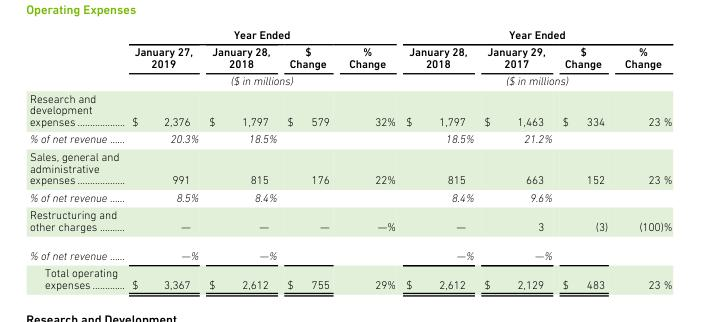table: (28, 29, 671, 290)
table column: (28, 29, 124, 290), (124, 29, 203, 290), (203, 29, 281, 290), (400, 29, 478, 290), (478, 29, 556, 290), (338, 29, 400, 290), (556, 29, 615, 290), (281, 29, 338, 290), (615, 29, 671, 290)
table column header: (28, 29, 671, 90)
table row: (28, 90, 671, 130), (28, 148, 671, 188), (28, 206, 671, 241), (28, 43, 671, 72), (28, 264, 671, 290), (28, 241, 671, 264), (28, 72, 671, 90), (28, 130, 671, 148), (28, 188, 671, 206), (28, 29, 671, 43)
table spanning cell: (124, 72, 400, 90), (400, 72, 671, 90), (124, 29, 400, 43), (400, 29, 671, 43)
